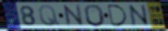8: (20, 5, 38, 27)
D: (106, 4, 129, 27)
N: (127, 3, 152, 28), (61, 3, 86, 28)
O: (84, 4, 107, 28)
Q: (37, 4, 62, 27)
